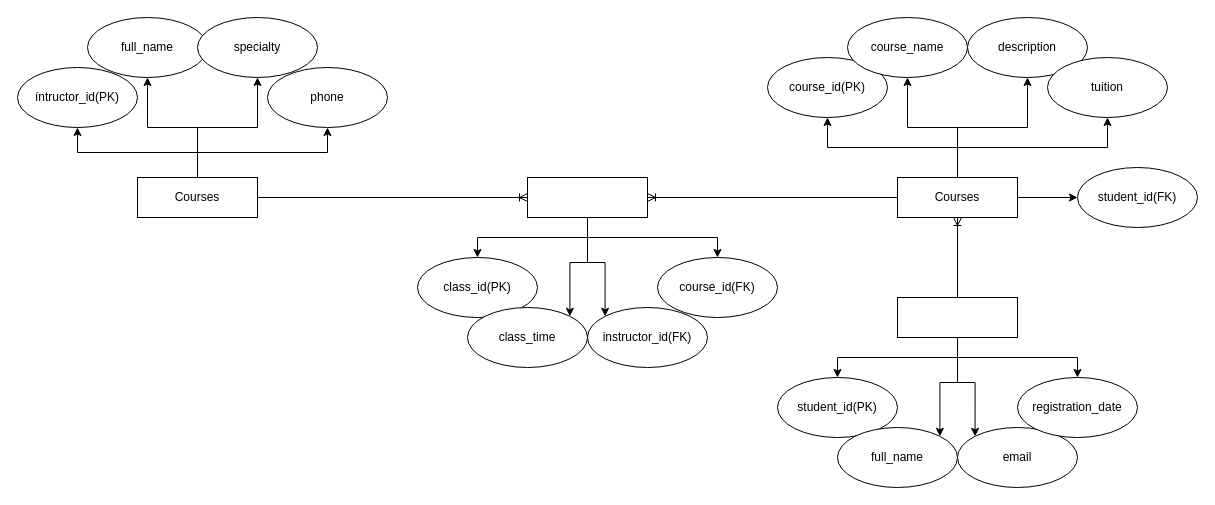
The diagram is 1215 pixels wide and 505 high, and some of its shapes have lost their labels. Each missing label, with the centre of its shape:
"Class" belongs at (x=587, y=197).
"Student" belongs at (x=957, y=317).
